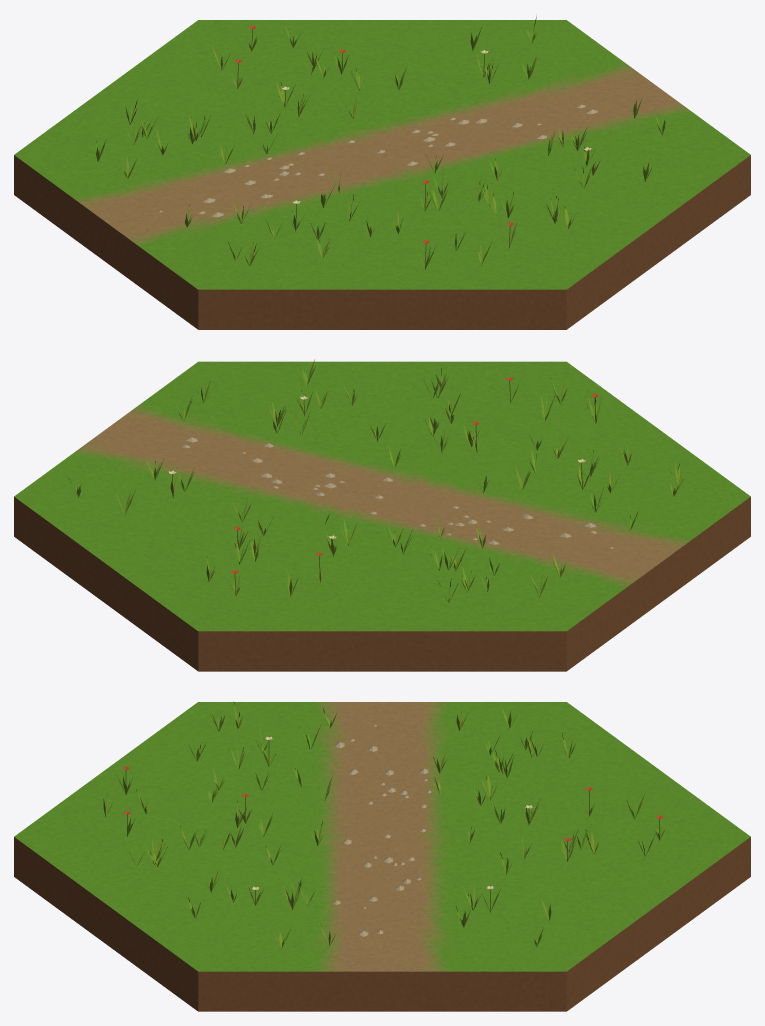
Rendered from SM_CaminoPuente_Recto_Detalle_LOD0.fbx.
3 renders of one model, top to bottom at view 1: azimuth 30°, elevation 25°; view 2: azimuth 150°, elevation 25°; view 3: azimuth 270°, elevation 25°, orthographic.
Visible parts, largest first — view 1: SM_CaminoPuente_Recto_Detalle_LOD0; view 2: SM_CaminoPuente_Recto_Detalle_LOD0; view 3: SM_CaminoPuente_Recto_Detalle_LOD0.
Boxes of the visible parts, <box> form: SM_CaminoPuente_Recto_Detalle_LOD0: <box>14,16,750,329</box>; SM_CaminoPuente_Recto_Detalle_LOD0: <box>14,359,750,671</box>; SM_CaminoPuente_Recto_Detalle_LOD0: <box>14,701,750,1011</box>.
Size of the model in its own units: 1.73 by 0.2079 by 2.
1 material, 1 textured.
